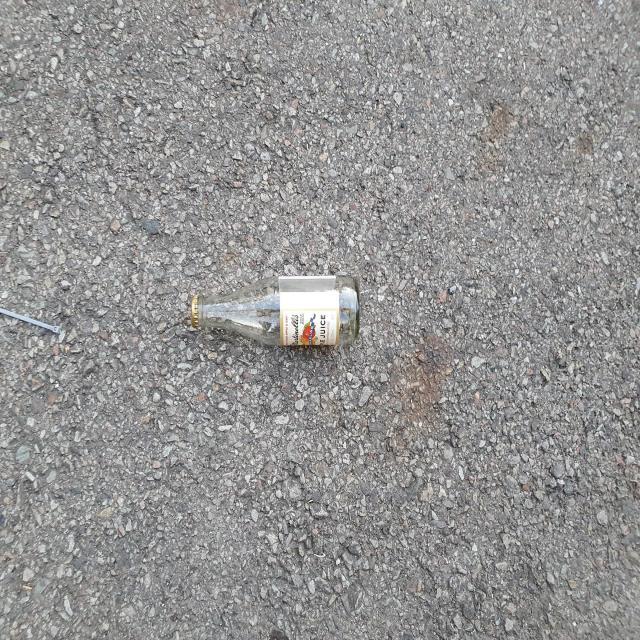glass: (191, 275, 359, 346)
